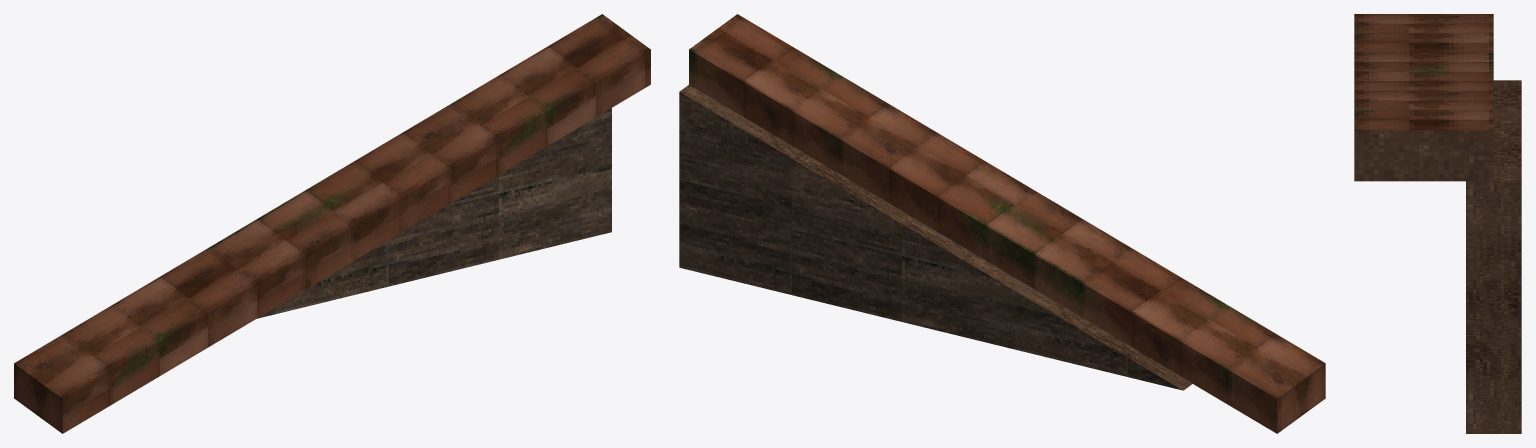
The model's file is roof_11_R.glb.
3 renders of one model, left to right at view 1: azimuth 30°, elevation 25°; view 2: azimuth 150°, elevation 25°; view 3: azimuth 270°, elevation 25°, orthographic. The views are drawn at different scales.
Parts seen in each view (by area): view 1: roof_11_R2; view 2: roof_11_R2; view 3: roof_11_R2.
Part boxes in pixels (x1,y1,x2,y2): roof_11_R2: (14,14,650,433); roof_11_R2: (679,14,1325,433); roof_11_R2: (1354,14,1521,433).
Size of the model in its own units: 3.5 by 1.37 by 0.6.
1 material, 1 textured.
